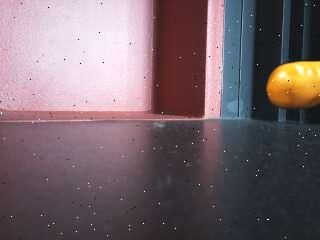Potato: (267, 59, 320, 106)
